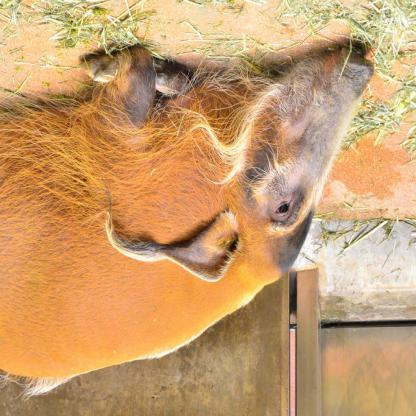boar: (0, 44, 375, 403)
